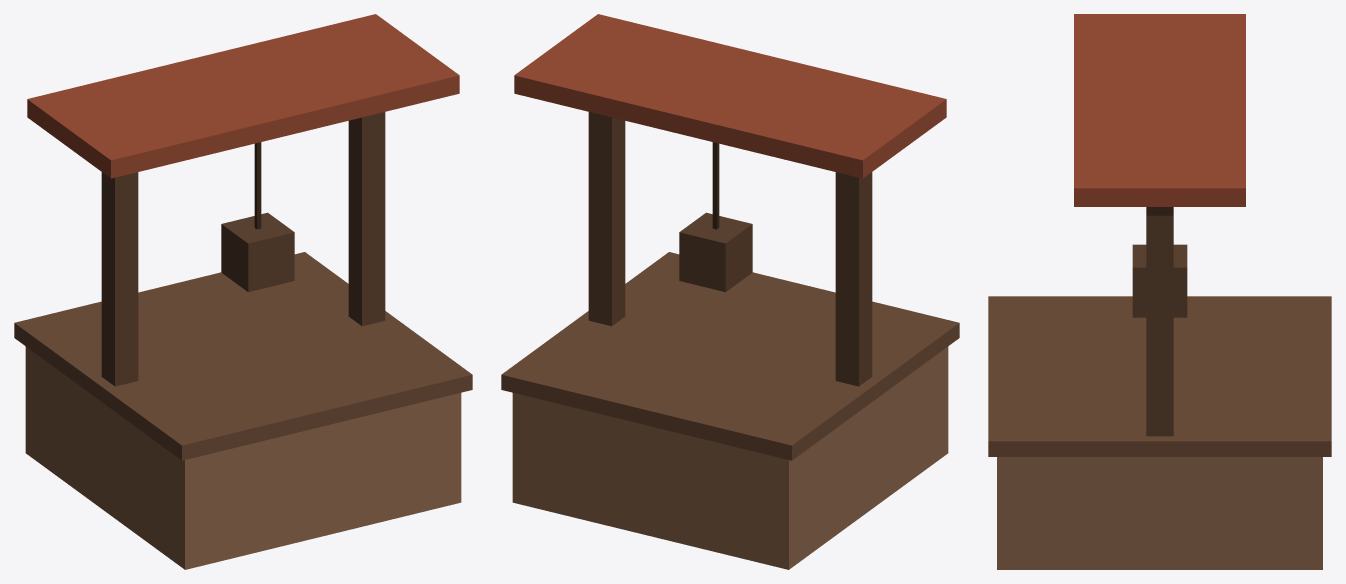
The model's file is dd_well.glb.
3 renders of one model, left to right at view 1: azimuth 30°, elevation 25°; view 2: azimuth 150°, elevation 25°; view 3: azimuth 270°, elevation 25°, orthographic. The views are drawn at different scales.
Parts seen in each view (by area): view 1: DUBG_dd_well; view 2: DUBG_dd_well; view 3: DUBG_dd_well.
Boxes of the visible parts, x1,y1,x2,y2 form: DUBG_dd_well: (14,14,472,569); DUBG_dd_well: (501,14,959,569); DUBG_dd_well: (988,14,1331,569).
Bounding box in the file's own units: 5.59 × 5.99 × 4.66.
